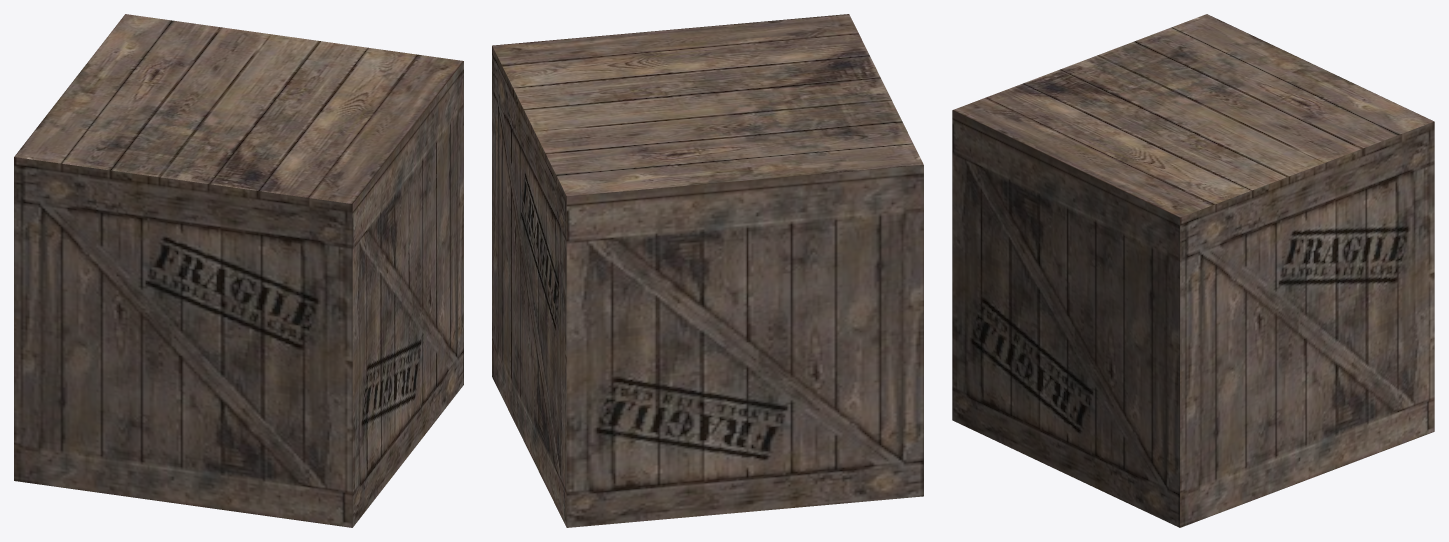
The model's file is Wooden_box_v1_LD1square (5).001.glb.
3 renders of one model, left to right at view 1: azimuth 30°, elevation 25°; view 2: azimuth 150°, elevation 25°; view 3: azimuth 270°, elevation 25°, orthographic. The views are drawn at different scales.
Visible parts, largest first — view 1: Wooden_box_v1_LD1square (5).001; view 2: Wooden_box_v1_LD1square (5).001; view 3: Wooden_box_v1_LD1square (5).001.
Boxes of the visible parts, <box> form: Wooden_box_v1_LD1square (5).001: <box>14,14,463,527</box>; Wooden_box_v1_LD1square (5).001: <box>492,14,923,527</box>; Wooden_box_v1_LD1square (5).001: <box>952,14,1434,527</box>.
Bounding box in the file's own units: 1.14 × 0.8124 × 1.14.
1 material, 1 textured.
